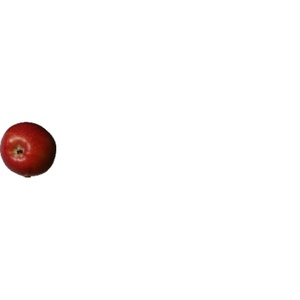maçã braeburn: (1, 121, 59, 179)
